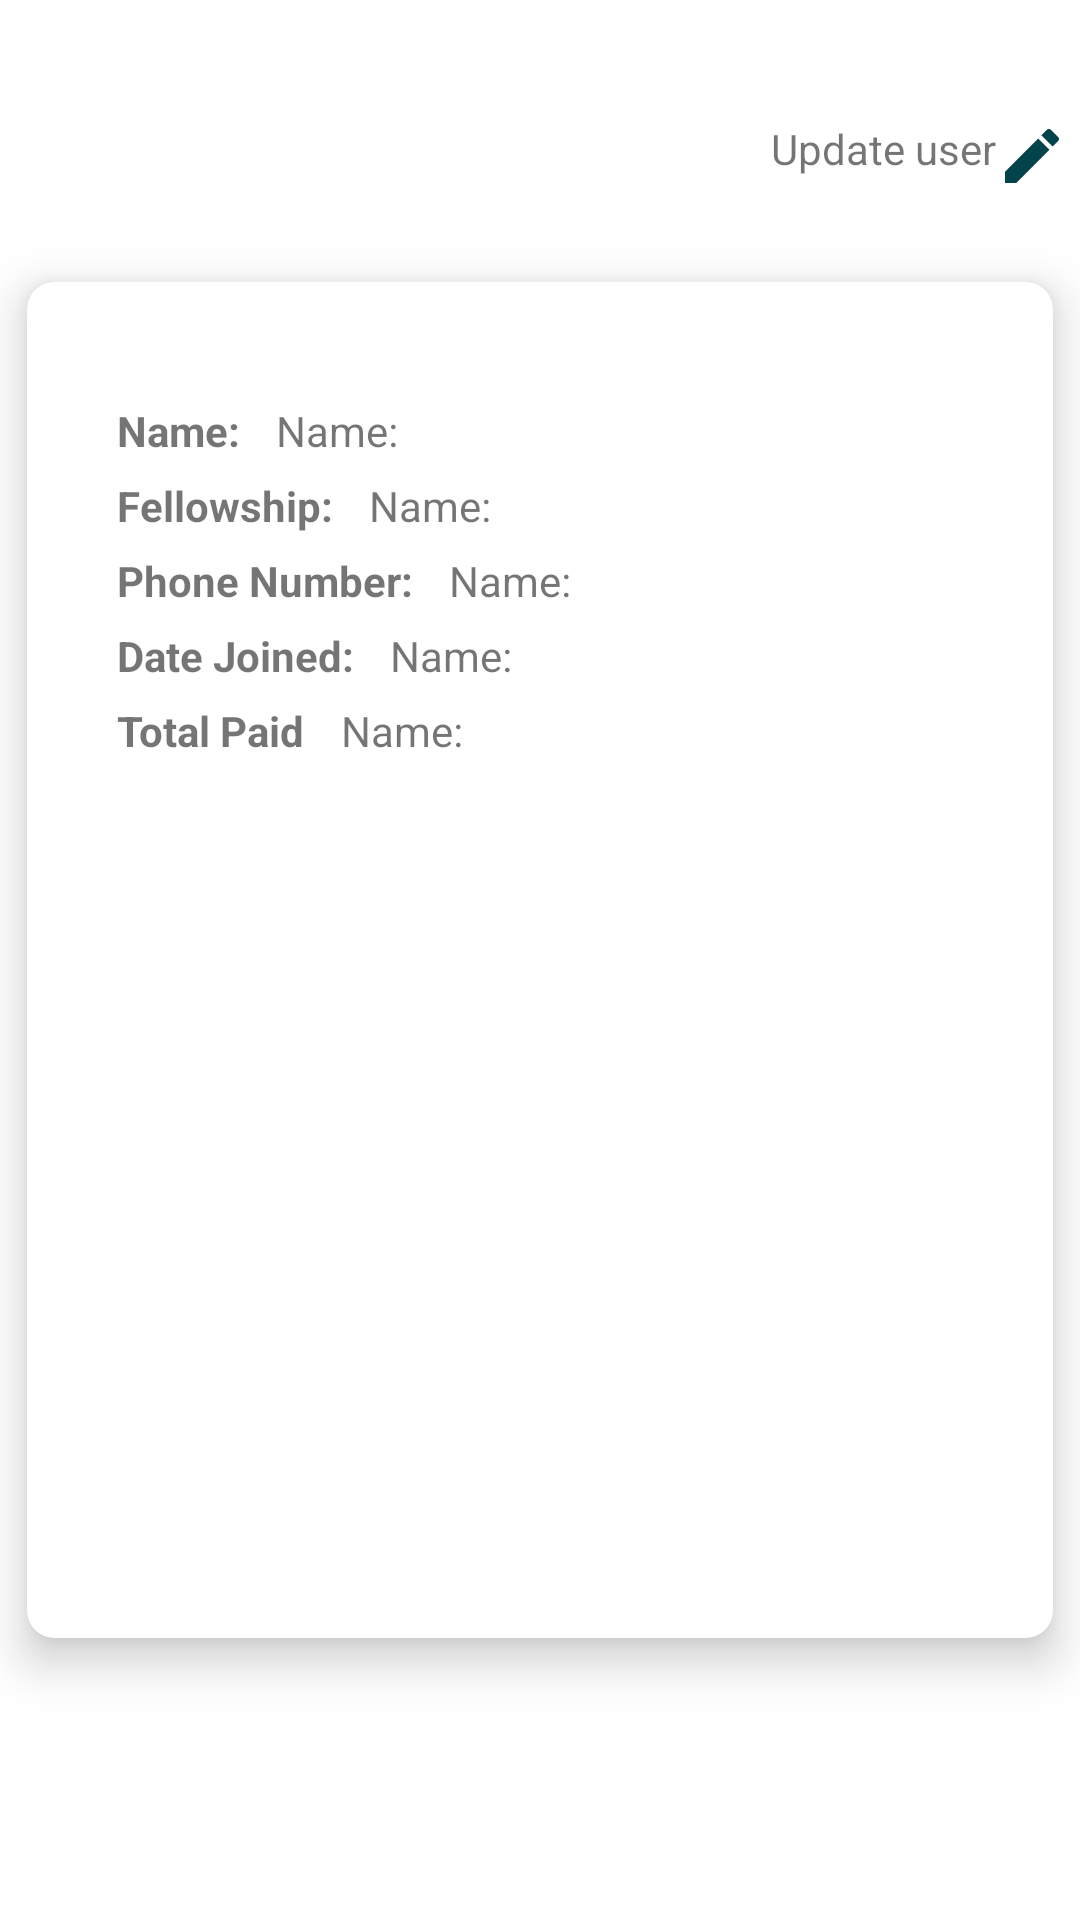

Point at icon controls on the screen. Image size 1080×1920, points as (x=x, y=y).
edit: (x=1032, y=156)
